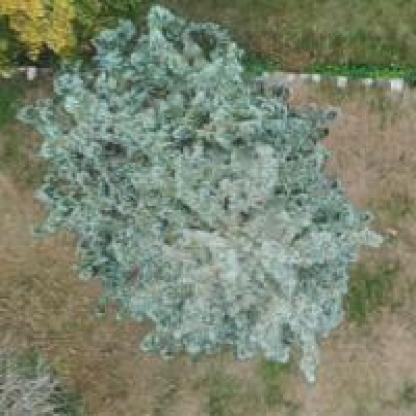Coniferous Tree: (38, 0, 389, 358)
